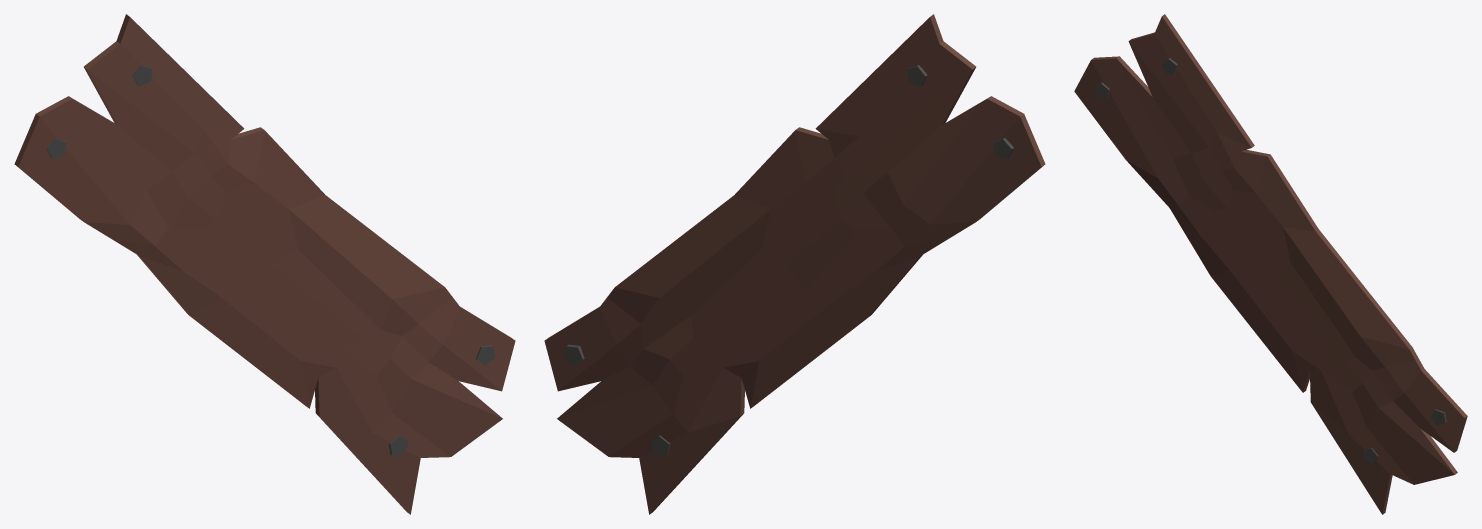
Rendered from wooden_plank.fbx.
The picture shows the model from 3 angles, left to right: view 1: azimuth 30°, elevation 25°; view 2: azimuth 150°, elevation 25°; view 3: azimuth 330°, elevation 25°; orthographic projection. The views are drawn at different scales.
Visible parts, largest first — view 1: wooden_plank; view 2: wooden_plank; view 3: wooden_plank.
Part boxes in pixels (<box>): wooden_plank: <box>14,14,515,514</box>; wooden_plank: <box>544,14,1045,514</box>; wooden_plank: <box>1074,14,1467,514</box>.
Bounding box in the file's own units: 135 × 147 × 6.43.
